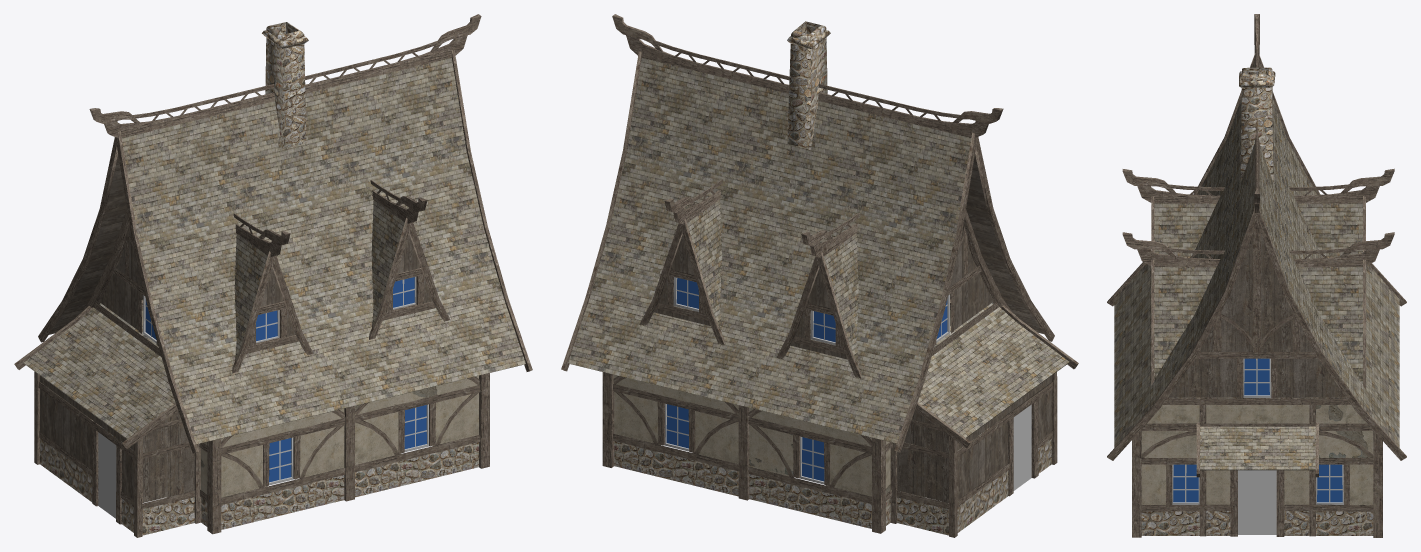
File: mw_type_2_cottage_01_LOD1.FBX
3 views of the same model, side by side, from view 1: azimuth 30°, elevation 25°; view 2: azimuth 150°, elevation 25°; view 3: azimuth 270°, elevation 25° (orthographic). The views are drawn at different scales.
Parts seen in each view (by area): view 1: mw_type_2_cottage_building_01_roof, mw_type_2_cottage_building_01_wood, mw_type_2_cottage_building_01_stone_01, mw_type_2_cottage_building_01_wall, mw_type_2_cottage_building_01; view 2: mw_type_2_cottage_building_01_roof, mw_type_2_cottage_building_01_wood, mw_type_2_cottage_building_01_stone_01, mw_type_2_cottage_building_01_wall, mw_type_2_cottage_building_01; view 3: mw_type_2_cottage_building_01_roof, mw_type_2_cottage_building_01_wood, mw_type_2_cottage_building_01_wall, mw_type_2_cottage_building_01_stone_01, mw_type_2_cottage_building_01.
Boxes of the visible parts, x1=… form: mw_type_2_cottage_building_01_roof: x1=23, y1=57, x2=525, y2=444; mw_type_2_cottage_building_01_wood: x1=14, y1=14, x2=532, y2=537; mw_type_2_cottage_building_01_stone_01: x1=40, y1=22, x2=478, y2=535; mw_type_2_cottage_building_01_wall: x1=141, y1=300, x2=478, y2=497; mw_type_2_cottage_building_01: x1=98, y1=276, x2=429, y2=518; mw_type_2_cottage_building_01_roof: x1=568, y1=57, x2=1069, y2=443; mw_type_2_cottage_building_01_wood: x1=561, y1=14, x2=1078, y2=537; mw_type_2_cottage_building_01_stone_01: x1=614, y1=21, x2=1051, y2=535; mw_type_2_cottage_building_01_wall: x1=614, y1=309, x2=950, y2=496; mw_type_2_cottage_building_01: x1=664, y1=277, x2=1031, y2=490; mw_type_2_cottage_building_01_roof: x1=1114, y1=62, x2=1399, y2=470; mw_type_2_cottage_building_01_wood: x1=1107, y1=14, x2=1406, y2=537; mw_type_2_cottage_building_01_wall: x1=1141, y1=405, x2=1373, y2=504; mw_type_2_cottage_building_01_stone_01: x1=1141, y1=67, x2=1373, y2=535; mw_type_2_cottage_building_01: x1=1172, y1=358, x2=1343, y2=534.
Size of the model in its own units: 1539 by 1517 by 1024.
